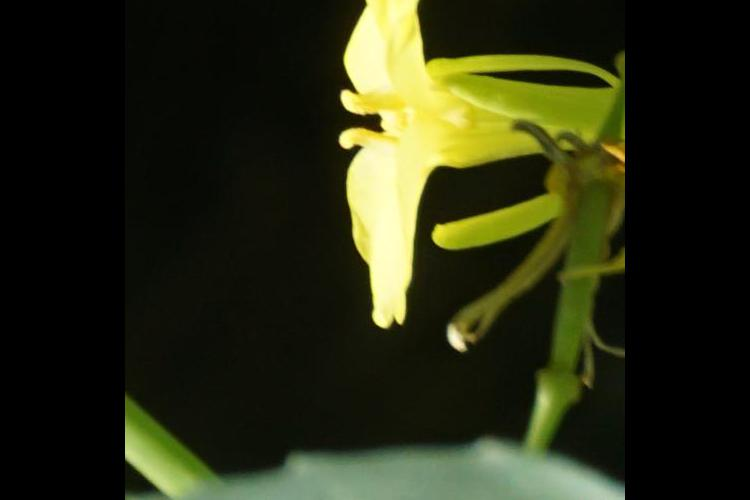yellow: (346, 1, 535, 337)
